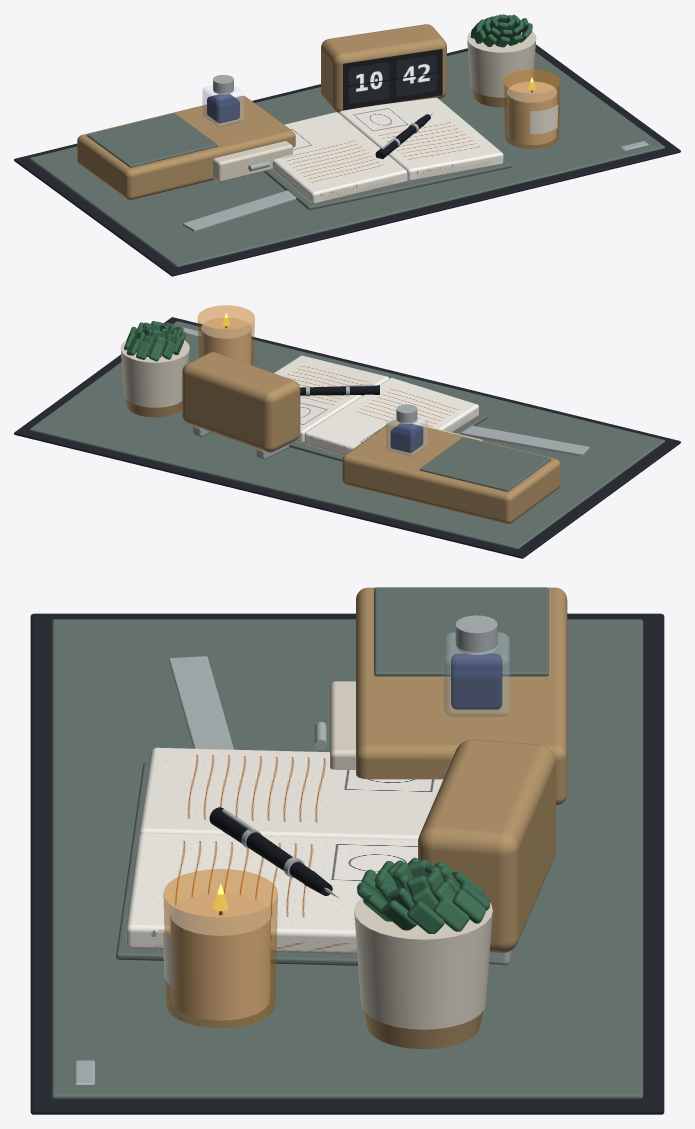
The model's file is atelier-decor-stationery-nordic.glb.
3 views of the same model, one above another, from view 1: azimuth 30°, elevation 25°; view 2: azimuth 150°, elevation 25°; view 3: azimuth 270°, elevation 25° (orthographic). The views are drawn at different scales.
Bounding box in the file's own units: 0.78 × 0.1226 × 0.4201.
15 materials, 2 textured.
